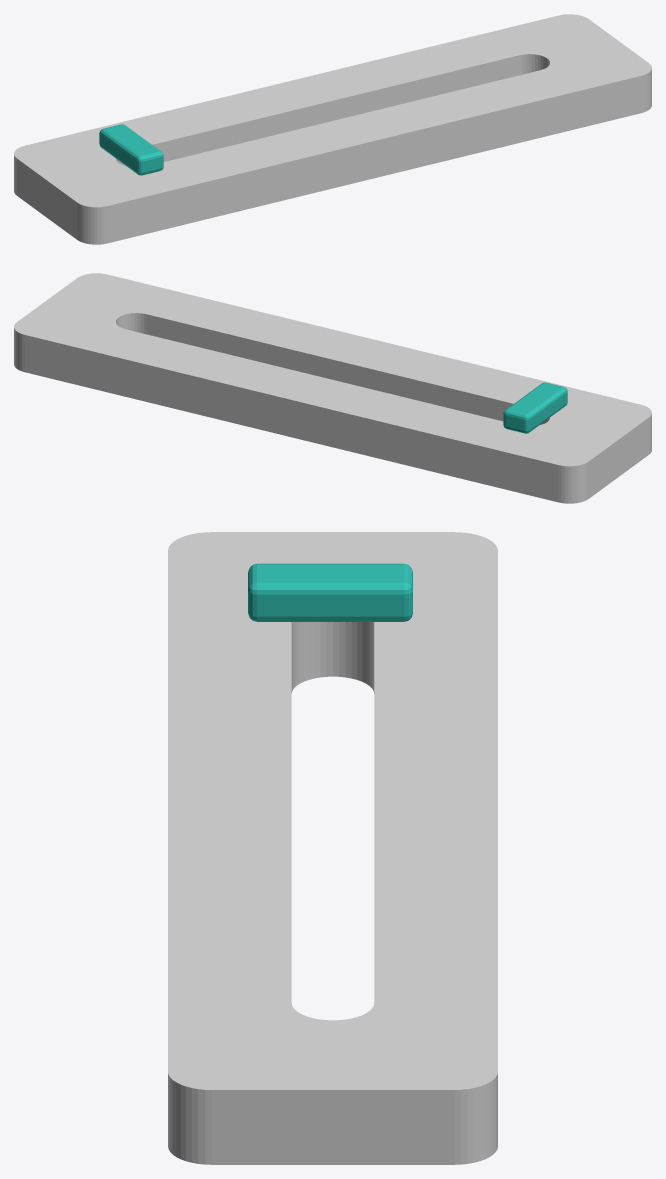
The model's file is slider_final.fbx.
The picture shows the model from 3 angles, top to bottom: view 1: azimuth 30°, elevation 25°; view 2: azimuth 150°, elevation 25°; view 3: azimuth 270°, elevation 25°; orthographic projection. The views are drawn at different scales.
Visible parts, largest first — view 1: sliderplane.003, Cube.004; view 2: sliderplane.003, Cube.004; view 3: sliderplane.003, Cube.004.
Part boxes in pixels (x1=…): sliderplane.003: x1=14, y1=14, x2=651, y2=244; Cube.004: x1=99, y1=124, x2=163, y2=175; sliderplane.003: x1=14, y1=273, x2=651, y2=503; Cube.004: x1=503, y1=382, x2=567, y2=433; sliderplane.003: x1=168, y1=532, x2=497, y2=1164; Cube.004: x1=248, y1=563, x2=412, y2=621.
Bounding box in the file's own units: 1600 × 154 × 400.
